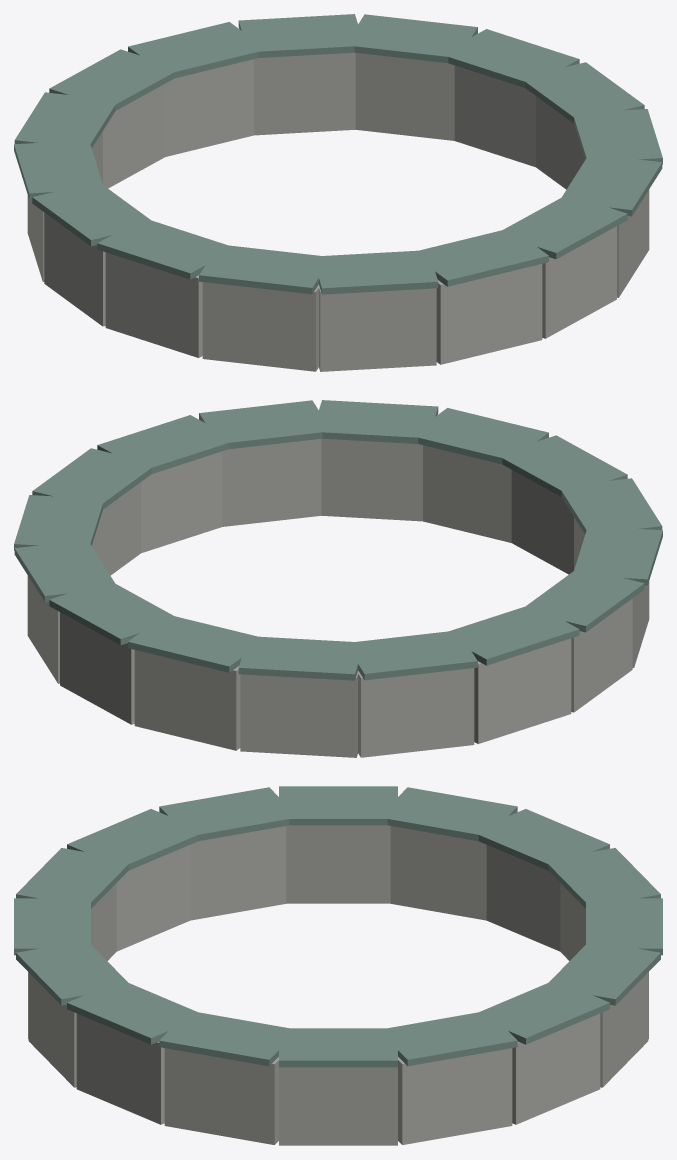
Rendered from mov_b0ddb5f59b.gltf.
3 renders of one model, top to bottom at view 1: azimuth 30°, elevation 25°; view 2: azimuth 150°, elevation 25°; view 3: azimuth 270°, elevation 25°, orthographic.
Visible parts, largest first — view 1: mov_b0ddb5f59b; view 2: mov_b0ddb5f59b; view 3: mov_b0ddb5f59b.
Part boxes in pixels (bbox=[...]): mov_b0ddb5f59b: bbox=[14, 14, 662, 371]; mov_b0ddb5f59b: bbox=[14, 400, 662, 757]; mov_b0ddb5f59b: bbox=[14, 786, 662, 1145].
Bounding box in the file's own units: 7.26 × 1.12 × 7.26.
